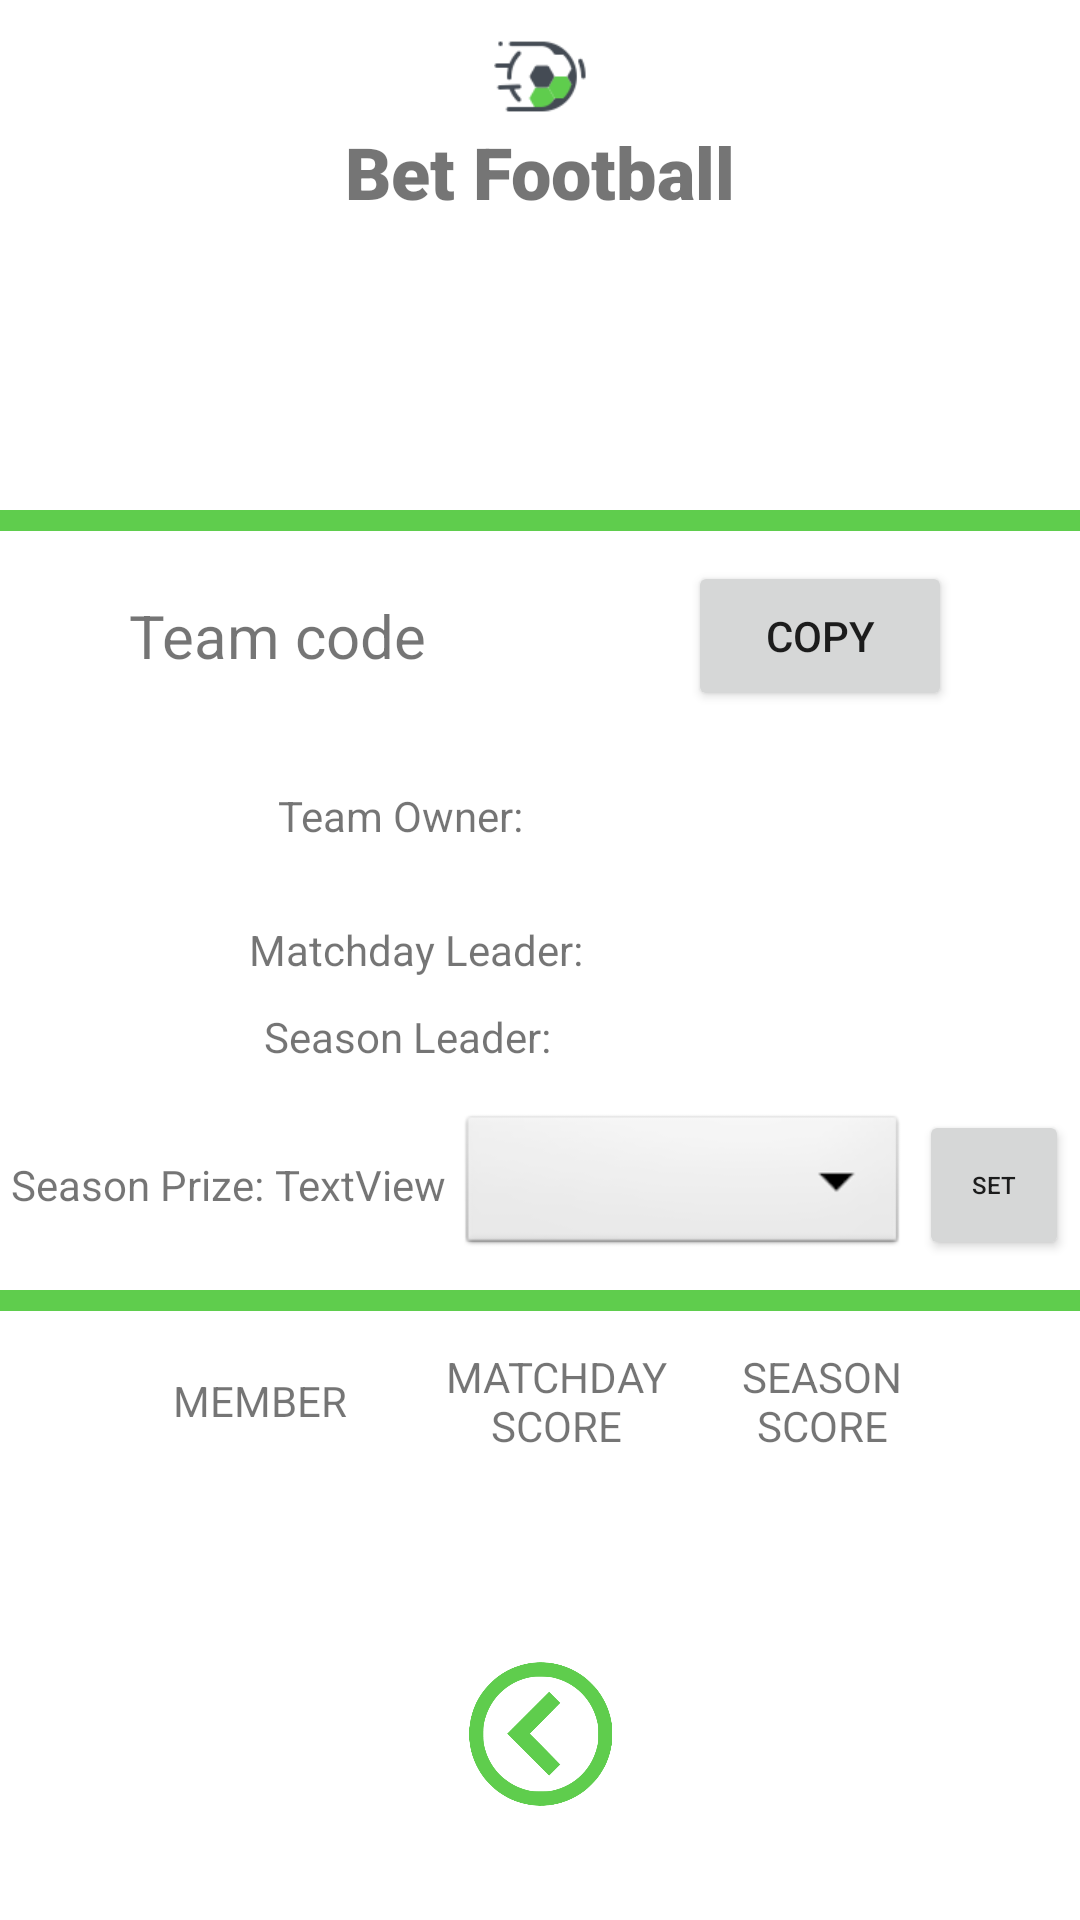

Icons on this 1080×1920 Android screen, each with the point to tap as point (x, y):
back: point (540, 1734)
